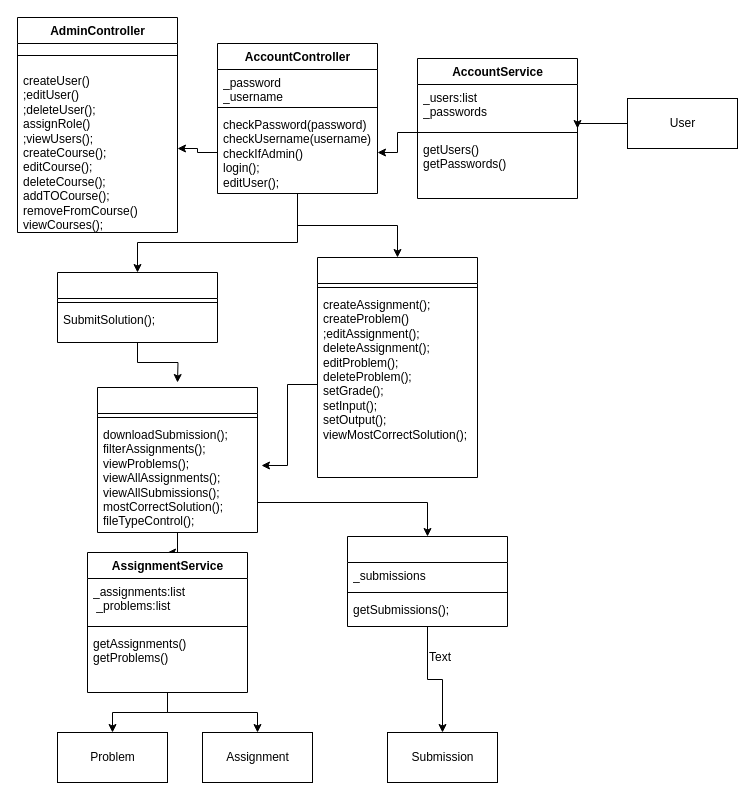
The diagram is 755 pixels wide and 800 high, and some of its shapes have lost their labels. Here are the shapes that lost their labels. From the top down, the box of each, then its label:
(56, 272, 218, 342): StudentController
(316, 256, 478, 478): TeacherControler
(96, 386, 258, 532): AssignmentController
(346, 536, 508, 626): SubmissionService
